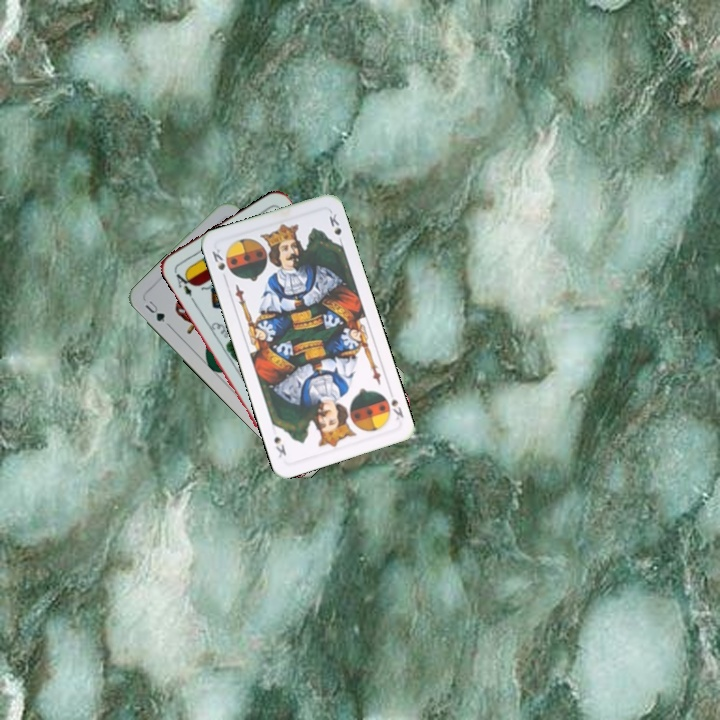EA: (170, 267, 196, 304)
GU: (141, 295, 167, 325)
SK: (379, 390, 406, 423), (208, 244, 233, 275)
